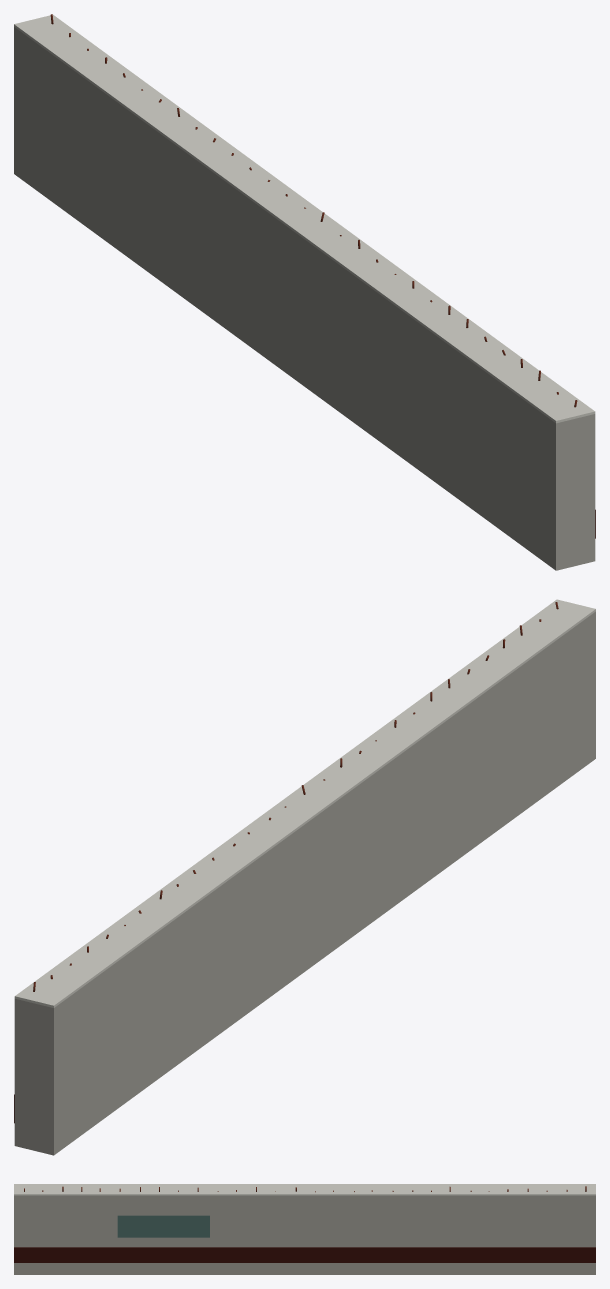
The model's file is tunnel_wall_ns.glb.
3 views of the same model, one above another, from view 1: azimuth 30°, elevation 25°; view 2: azimuth 150°, elevation 25°; view 3: azimuth 270°, elevation 25° (orthographic). The views are drawn at different scales.
Parts seen in each view (by area): view 1: wall, cut; view 2: wall, cut; view 3: wall, waterline, cut, tag.
Part boxes in pixels (box(x1,y1,x2,y2)): wall: box(14, 27, 595, 570); cut: box(14, 15, 595, 423); wall: box(14, 611, 595, 1155); cut: box(14, 599, 595, 1007); wall: box(14, 1195, 595, 1274); waterline: box(14, 1247, 595, 1262); cut: box(14, 1184, 595, 1195); tag: box(117, 1215, 209, 1237).
Size of the model in its own units: 0.51 by 1.95 by 12.
